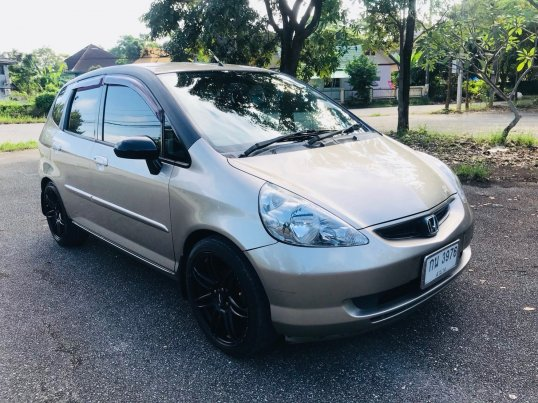sedan: (37, 60, 477, 362)
